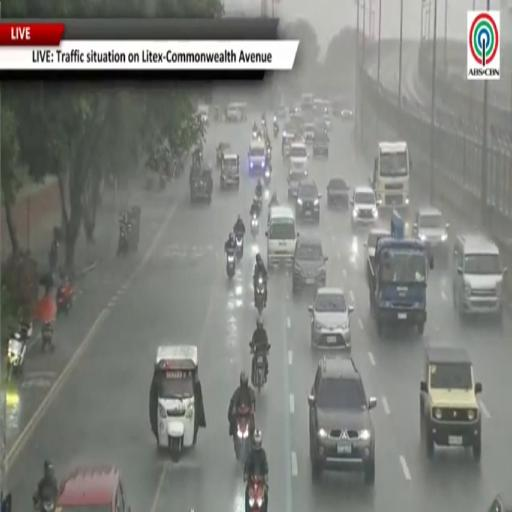car: (308, 357, 376, 485), (420, 346, 482, 460), (452, 234, 507, 322), (56, 466, 130, 511), (309, 287, 353, 350), (292, 236, 327, 294), (414, 207, 449, 261), (364, 229, 390, 283), (351, 186, 378, 228), (296, 179, 321, 223), (288, 164, 308, 199), (327, 178, 349, 209), (221, 154, 239, 189), (289, 141, 308, 168), (489, 491, 511, 511), (313, 131, 329, 157), (216, 142, 230, 168), (315, 118, 329, 133), (304, 122, 314, 143), (340, 108, 353, 121), (323, 113, 331, 130)
motorcycle: (234, 407, 252, 462), (6, 333, 26, 381), (251, 345, 270, 394), (246, 476, 267, 511), (57, 281, 74, 314), (255, 276, 266, 314), (117, 223, 130, 255), (42, 323, 54, 351), (33, 498, 55, 511), (19, 322, 32, 340), (227, 251, 235, 279), (236, 233, 244, 260), (254, 188, 263, 211), (251, 214, 259, 237), (264, 167, 271, 185), (159, 173, 166, 190), (274, 124, 279, 138), (252, 130, 258, 138)
truck: (369, 211, 433, 335), (370, 141, 411, 211), (190, 168, 212, 203)
